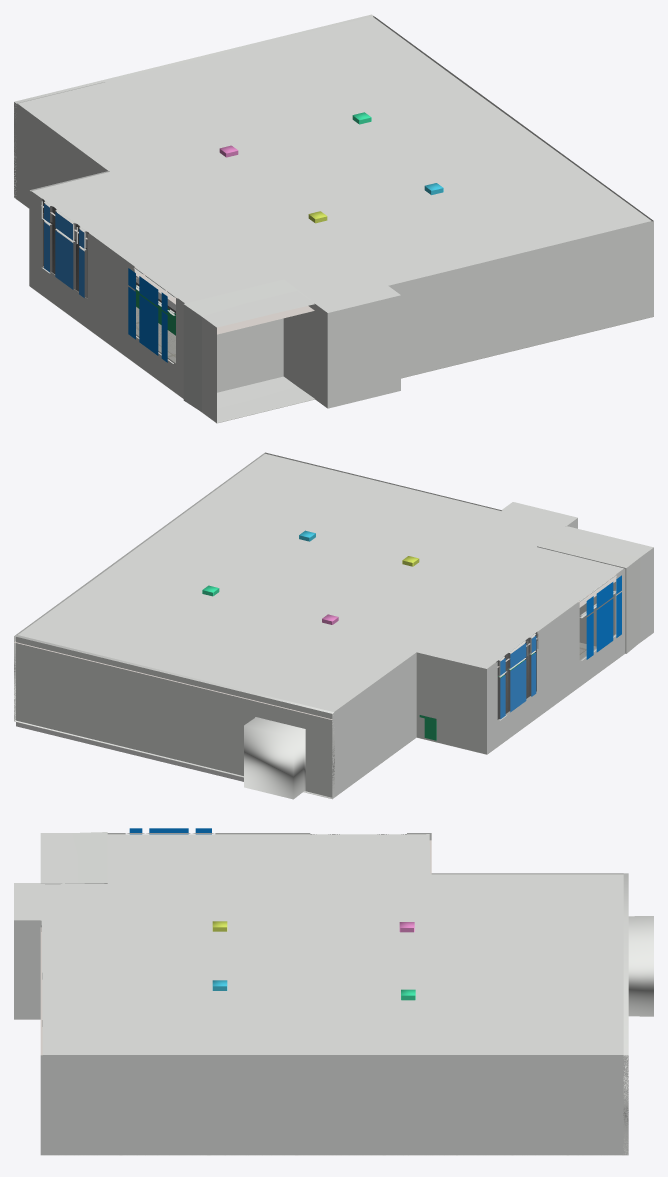
Rendered from comedorFinalizado.fbx.
The picture shows the model from 3 angles, top to bottom: view 1: azimuth 30°, elevation 25°; view 2: azimuth 150°, elevation 25°; view 3: azimuth 270°, elevation 25°; orthographic projection. The views are drawn at different scales.
Visible parts, largest first — view 1: Cube, Cube.044, Cube.040, Cube.042, Cube.039; view 2: Cube, Cube.044, Cube.040, Cube.043, Cube.042, Cube.039; view 3: Cube, Cube.039.
Part boxes in pixels (box(x1,y1,x2,y2)): Cube: box(14, 14, 653, 422); Cube.044: box(42, 199, 88, 297); Cube.040: box(128, 268, 167, 362); Cube.042: box(41, 203, 314, 334); Cube.039: box(15, 198, 653, 423); Cube: box(14, 452, 653, 799); Cube.044: box(496, 632, 537, 719); Cube.040: box(586, 575, 621, 659); Cube.043: box(16, 722, 243, 781); Cube.042: box(14, 574, 616, 719); Cube.039: box(14, 633, 652, 799); Cube: box(14, 832, 653, 1154); Cube.039: box(41, 1155, 628, 1155).
Bounding box in the file's own units: 971 × 223 × 1165.
